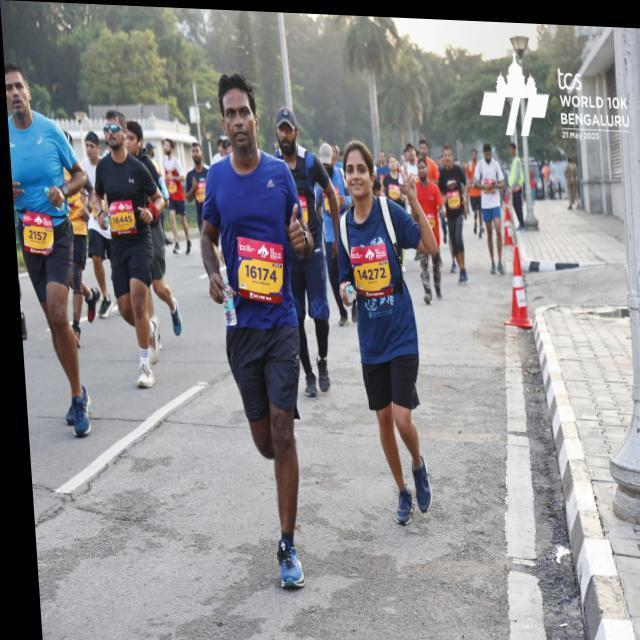dorsal: (231, 232, 282, 304), (344, 240, 391, 292), (16, 206, 53, 255), (102, 198, 133, 238)
